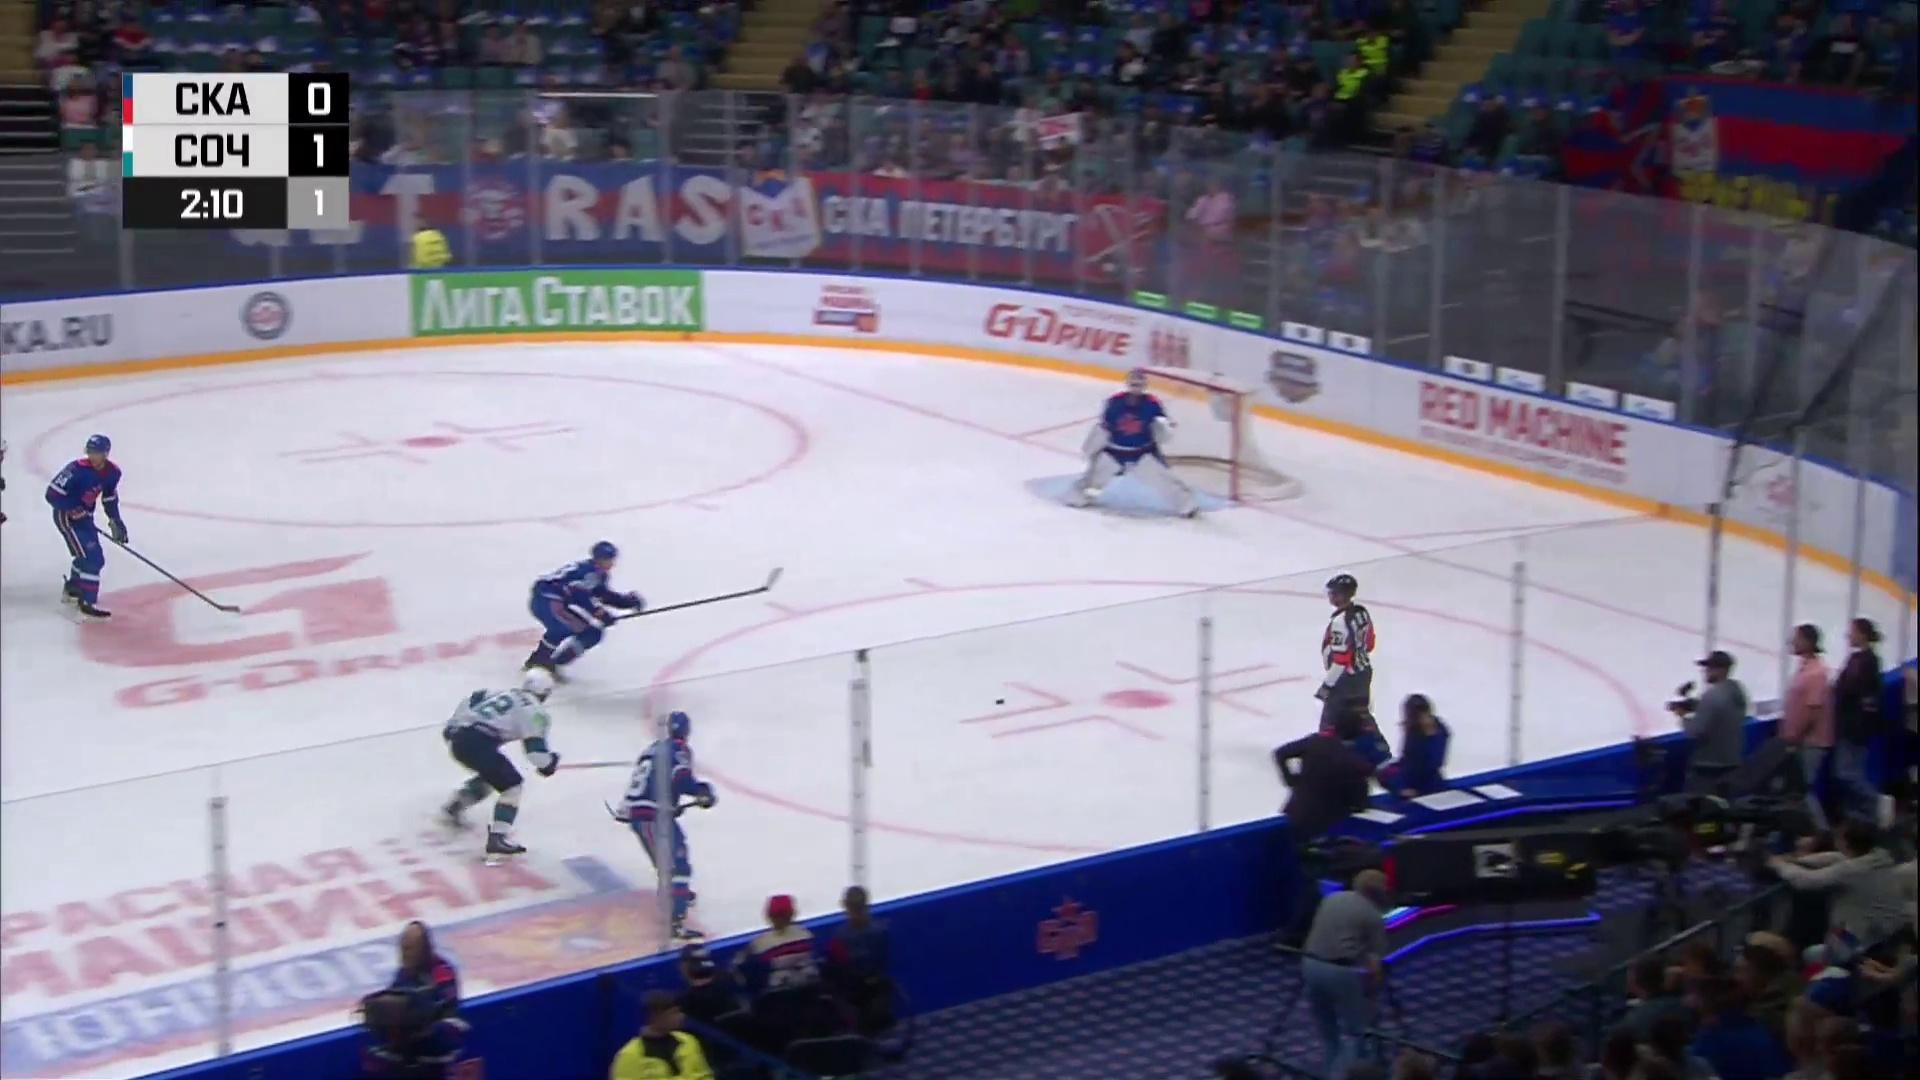ball: (996, 698, 1006, 704)
